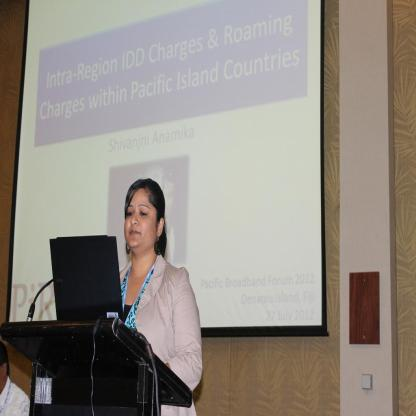board: (50, 236, 125, 322)
